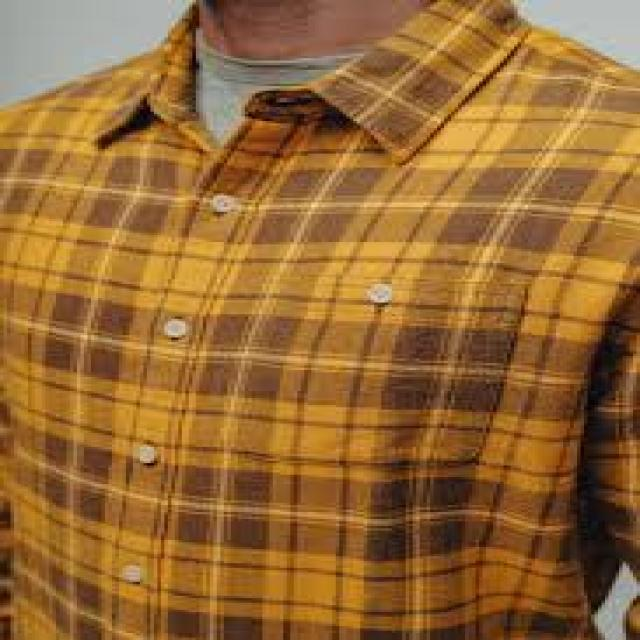plaid: (16, 24, 640, 640)
